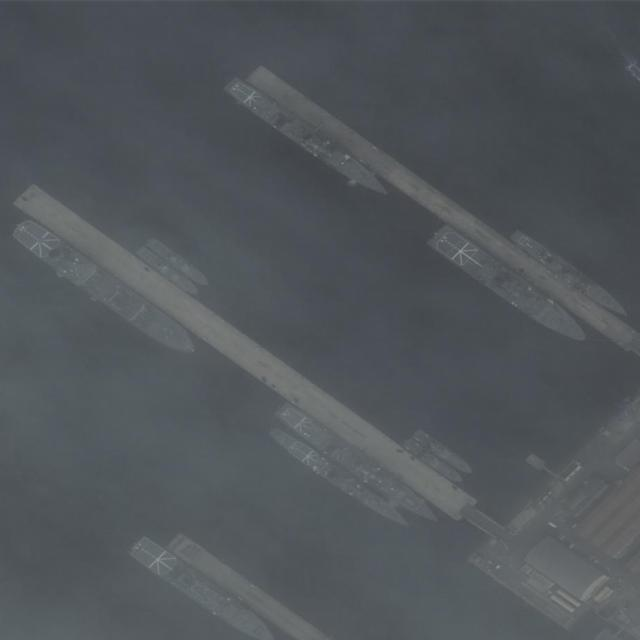Auxiliary Ships: (8, 214, 203, 364)
Destroyer: (218, 68, 397, 207), (272, 398, 445, 531), (423, 220, 593, 352), (266, 424, 414, 534), (129, 533, 270, 637), (508, 225, 634, 324)
Dock: (10, 180, 508, 546), (245, 58, 634, 355)
Other Warship: (144, 236, 213, 288), (137, 246, 204, 297), (401, 436, 466, 486), (411, 427, 476, 477)
